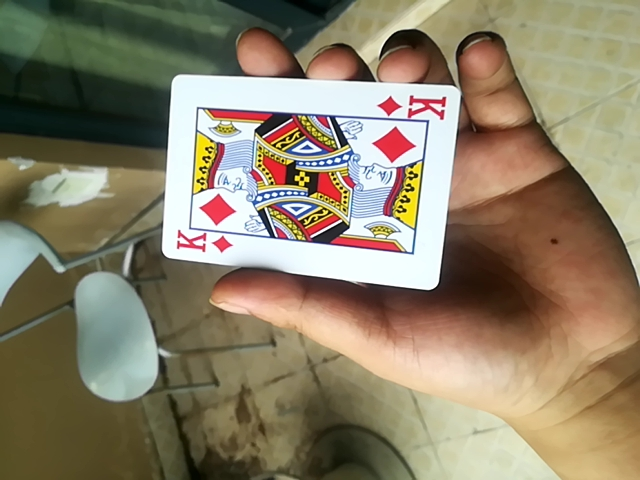fk k: (157, 71, 461, 287)
